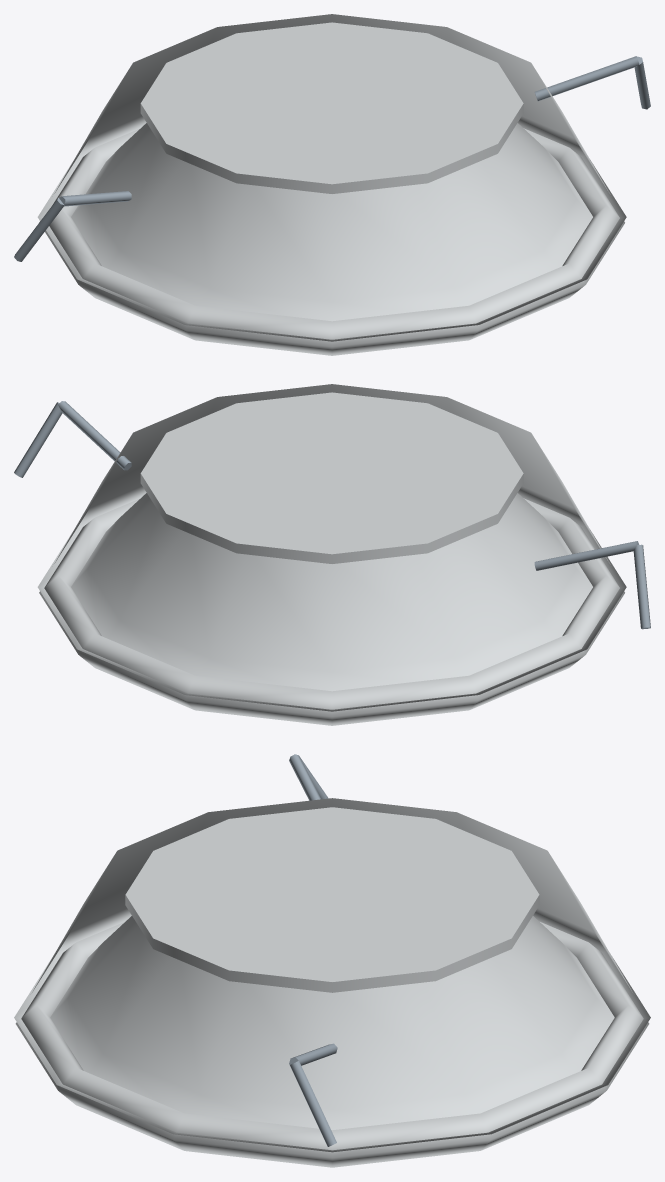
File: source.glb
The picture shows the model from 3 angles, top to bottom: view 1: azimuth 30°, elevation 25°; view 2: azimuth 150°, elevation 25°; view 3: azimuth 270°, elevation 25°; orthographic projection. The views are drawn at different scales.
Visible parts, largest first — view 1: 粉末涂层铝壳, 机加工金属; view 2: 粉末涂层铝壳, 机加工金属; view 3: 粉末涂层铝壳, 机加工金属.
Boxes of the visible parts, <box> form: 粉末涂层铝壳: <box>37,14,626,355</box>; 机加工金属: <box>14,56,650,261</box>; 粉末涂层铝壳: <box>37,384,626,725</box>; 机加工金属: <box>14,401,650,629</box>; 粉末涂层铝壳: <box>14,798,650,1167</box>; 机加工金属: <box>289,754,337,1146</box>.
Size of the model in its own units: 0.1059 by 0.0218 by 0.085.
